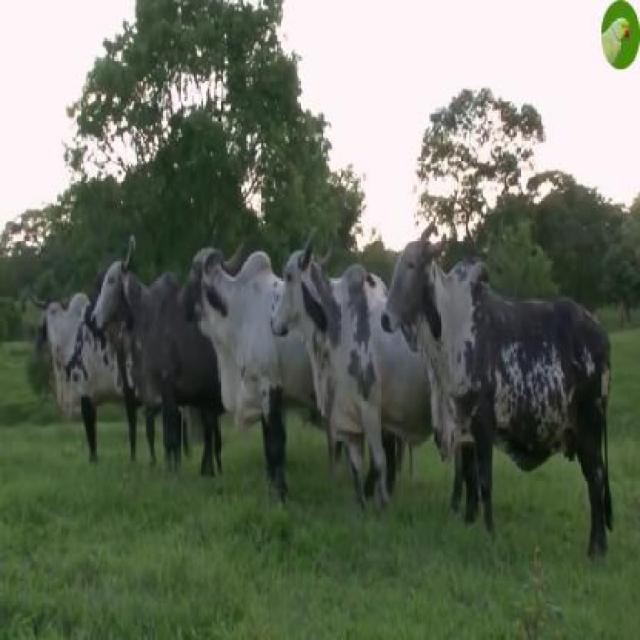Cow: (382, 218, 612, 562)
